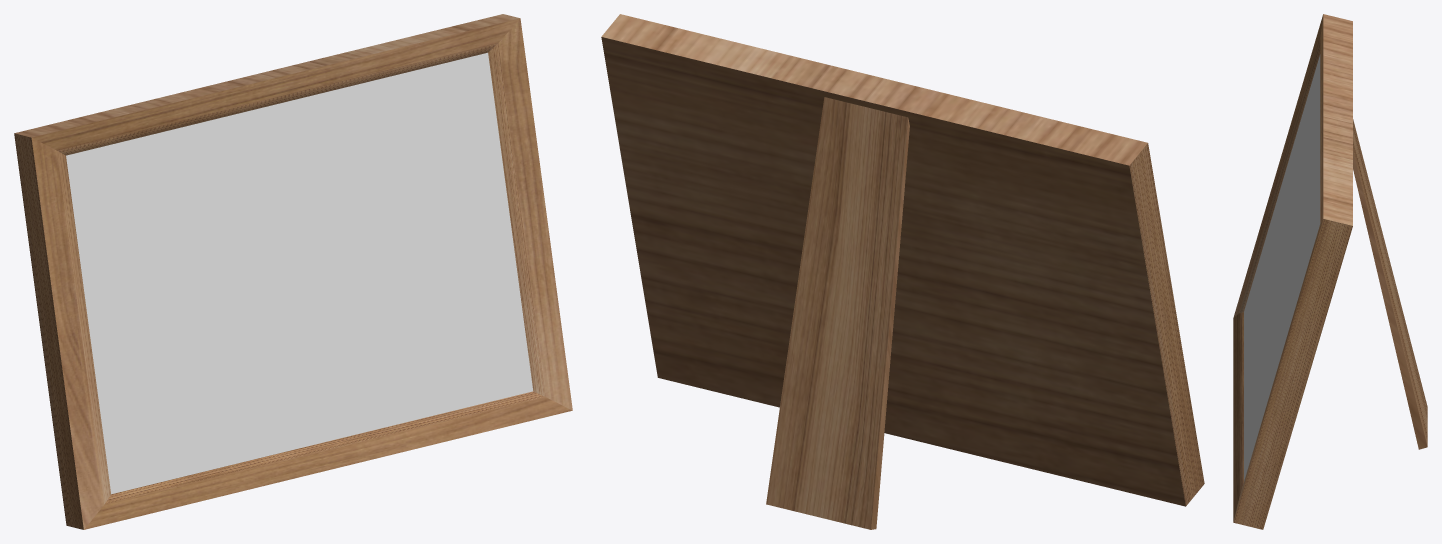
The model's file is WideFrame.fbx.
3 views of the same model, side by side, from view 1: azimuth 30°, elevation 25°; view 2: azimuth 150°, elevation 25°; view 3: azimuth 270°, elevation 25° (orthographic). The views are drawn at different scales.
Visible parts, largest first — view 1: WideFrame; view 2: WideFrame; view 3: WideFrame.
Part boxes in pixels (x1,y1,x2,y2): WideFrame: [14, 14, 572, 529]; WideFrame: [601, 14, 1204, 529]; WideFrame: [1233, 14, 1427, 529].
Size of what is drawn, in the model's own units: 31.17 by 22.22 by 12.49.
